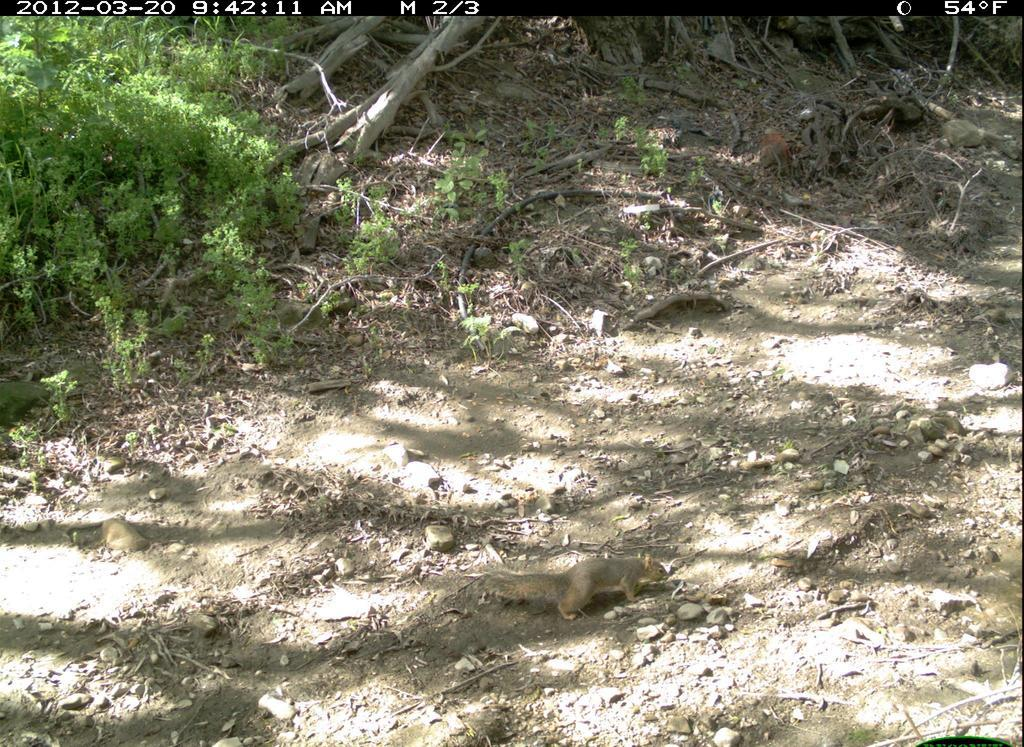squirrel: (477, 539, 674, 621)
